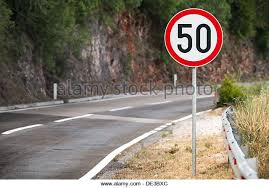Speed_limit_50km: (162, 9, 224, 67)
